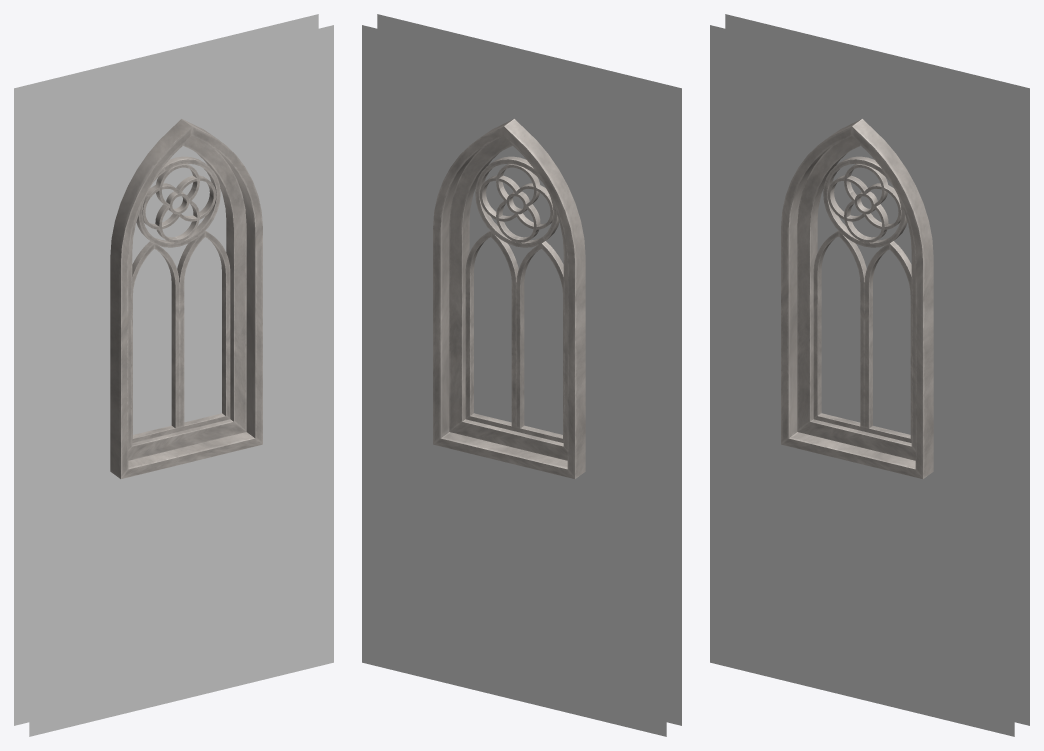
The model's file is Wall_Window_A_A.fbx.
3 renders of one model, left to right at view 1: azimuth 30°, elevation 25°; view 2: azimuth 150°, elevation 25°; view 3: azimuth 330°, elevation 25°, orthographic.
Visible parts, largest first — view 1: Wall_Window_A_A; view 2: Wall_Window_A_A; view 3: Wall_Window_A_A.
Boxes of the visible parts, left/top/right/bottom form: Wall_Window_A_A: left=14, top=14, right=333, bottom=736; Wall_Window_A_A: left=362, top=14, right=681, bottom=736; Wall_Window_A_A: left=710, top=14, right=1029, bottom=736.
Size of the model in its own units: 3 by 0.6115 by 6.
